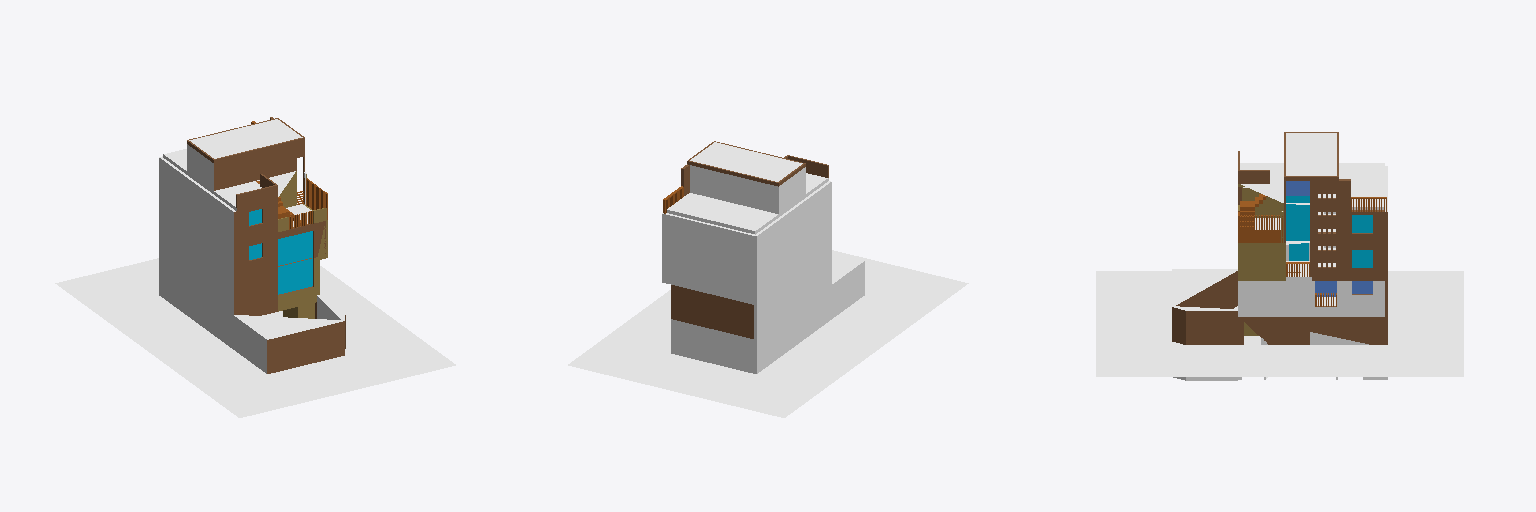
The model's file is Unity_Ex.obj.
3 renders of one model, left to right at view 1: azimuth 30°, elevation 25°; view 2: azimuth 150°, elevation 25°; view 3: azimuth 270°, elevation 25°, orthographic.
Visible parts, largest first — view 1: Mesh216 Ground Model, Mesh290 Yard_Wall L_0 Model, Mesh53 Group36 L_4 Model, Mesh128 Group80 L_3 Model, Mesh61 Group42 L_4 Model, Mesh39 Group24 L_2 Model, Mesh194 Group97 L_1 Model, Mesh237 Group115 L_Parking L_0 Model, Mesh172 Group88 L_1 Model, Mesh18 Glass_La L_2 Model, Mesh16 Group3 L_2 Model, Mesh56 Roof L_4 Model (+2 smaller); view 2: Mesh216 Ground Model, Mesh127 Group79 L_3 Model, Mesh53 Group36 L_4 Model, Mesh38 Group23 L_2 Model, Mesh128 Group80 L_3 Model, Mesh193 Group96 L_1 Model, Mesh221 Group113 L_Parking L_0 Model, Mesh61 Group42 L_4 Model, Mesh56 Roof L_4 Model, Mesh194 Group97 L_1 Model, Mesh39 Group24 L_2 Model, Mesh237 Group115 L_Parking L_0 Model (+1 smaller); view 3: Mesh216 Ground Model, Mesh290 Yard_Wall L_0 Model, Mesh205 Out_Wall_E L_1 Model, Mesh239 Group117 L_Parking L_0 Model, Mesh61 Group42 L_4 Model, Mesh56 Roof L_4 Model, Mesh21 Group6 L_2 Model, Mesh123 Group75 L_3 Model, Mesh20 Group5 L_2 Model, Mesh116 Group73 L_3 Model, Mesh57 Group38 L_4 Model, Mesh97 Group62 L_3 Model.
Part boxes in pixels (left/top/right/bottom): Mesh216 Ground Model: left=55, top=258, right=455, bottom=417; Mesh290 Yard_Wall L_0 Model: left=234, top=295, right=345, bottom=373; Mesh53 Group36 L_4 Model: left=187, top=143, right=296, bottom=190; Mesh128 Group80 L_3 Model: left=159, top=157, right=236, bottom=245; Mesh61 Group42 L_4 Model: left=187, top=118, right=304, bottom=162; Mesh39 Group24 L_2 Model: left=159, top=192, right=236, bottom=280; Mesh194 Group97 L_1 Model: left=159, top=227, right=236, bottom=314; Mesh237 Group115 L_Parking L_0 Model: left=159, top=261, right=233, bottom=349; Mesh172 Group88 L_1 Model: left=237, top=258, right=316, bottom=314; Mesh18 Glass_La L_2 Model: left=278, top=231, right=312, bottom=294; Mesh16 Group3 L_2 Model: left=237, top=221, right=325, bottom=276; Mesh56 Roof L_4 Model: left=163, top=149, right=296, bottom=210; Mesh216 Ground Model: left=568, top=250, right=968, bottom=417; Mesh127 Group79 L_3 Model: left=662, top=213, right=754, bottom=269; Mesh53 Group36 L_4 Model: left=690, top=165, right=805, bottom=213; Mesh38 Group23 L_2 Model: left=662, top=248, right=753, bottom=304; Mesh128 Group80 L_3 Model: left=754, top=181, right=831, bottom=270; Mesh193 Group96 L_1 Model: left=671, top=285, right=753, bottom=338; Mesh221 Group113 L_Parking L_0 Model: left=671, top=319, right=753, bottom=373; Mesh61 Group42 L_4 Model: left=687, top=141, right=805, bottom=186; Mesh56 Roof L_4 Model: left=667, top=173, right=828, bottom=234; Mesh194 Group97 L_1 Model: left=754, top=251, right=831, bottom=339; Mesh39 Group24 L_2 Model: left=754, top=216, right=831, bottom=304; Mesh237 Group115 L_Parking L_0 Model: left=754, top=285, right=831, bottom=373; Mesh216 Ground Model: left=1096, top=271, right=1463, bottom=376; Mesh290 Yard_Wall L_0 Model: left=1172, top=269, right=1237, bottom=380; Mesh205 Out_Wall_E L_1 Model: left=1238, top=272, right=1384, bottom=316; Mesh239 Group117 L_Parking L_0 Model: left=1238, top=317, right=1384, bottom=344; Mesh61 Group42 L_4 Model: left=1284, top=132, right=1338, bottom=180; Mesh56 Roof L_4 Model: left=1238, top=163, right=1384, bottom=209; Mesh21 Group6 L_2 Model: left=1312, top=246, right=1384, bottom=280; Mesh123 Group75 L_3 Model: left=1312, top=210, right=1384, bottom=245; Mesh20 Group5 L_2 Model: left=1238, top=243, right=1285, bottom=280; Mesh116 Group73 L_3 Model: left=1286, top=207, right=1309, bottom=240; Mesh57 Group38 L_4 Model: left=1312, top=181, right=1338, bottom=211; Mesh97 Group62 L_3 Model: left=1242, top=187, right=1283, bottom=217.
Size of the model in its own units: 19.79 by 18.1 by 29.08.